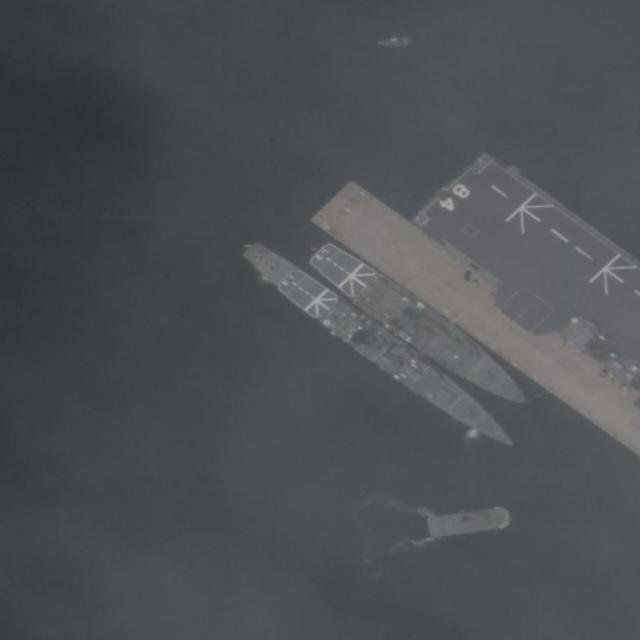Auxiliary Ships: (303, 237, 537, 417)
Destroyer: (239, 237, 521, 458), (412, 152, 640, 393)
Other Ship: (426, 504, 511, 539)
